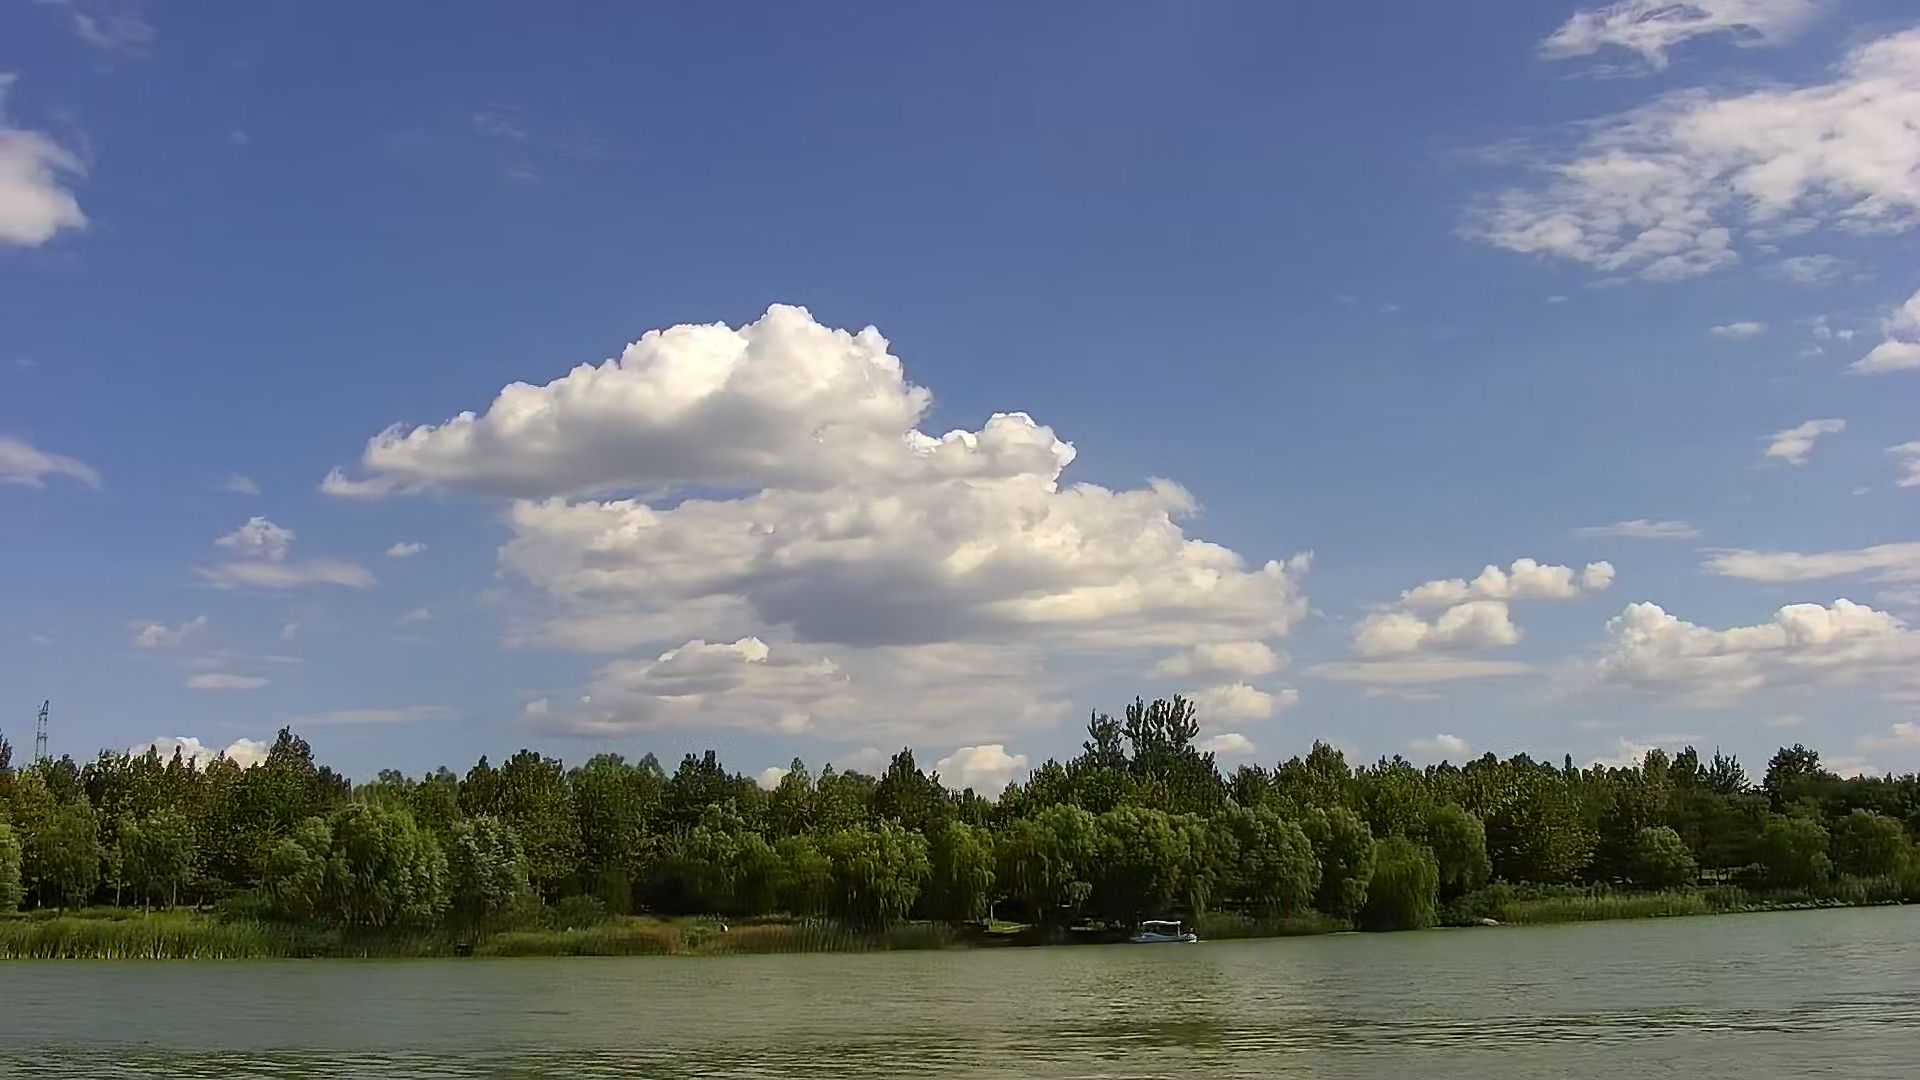boat: (1130, 913, 1199, 948)
